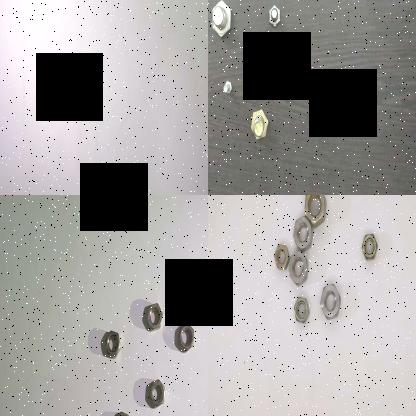Bolts: (209, 0, 233, 43), (248, 104, 268, 147), (264, 0, 280, 23), (218, 76, 235, 96)
NUTS: (317, 277, 342, 327), (290, 212, 312, 252), (285, 249, 310, 282), (302, 195, 327, 227), (100, 328, 122, 362), (358, 228, 378, 265), (144, 298, 165, 333), (176, 320, 196, 354), (146, 376, 166, 410), (292, 296, 310, 329), (270, 241, 290, 269), (112, 408, 130, 416)
